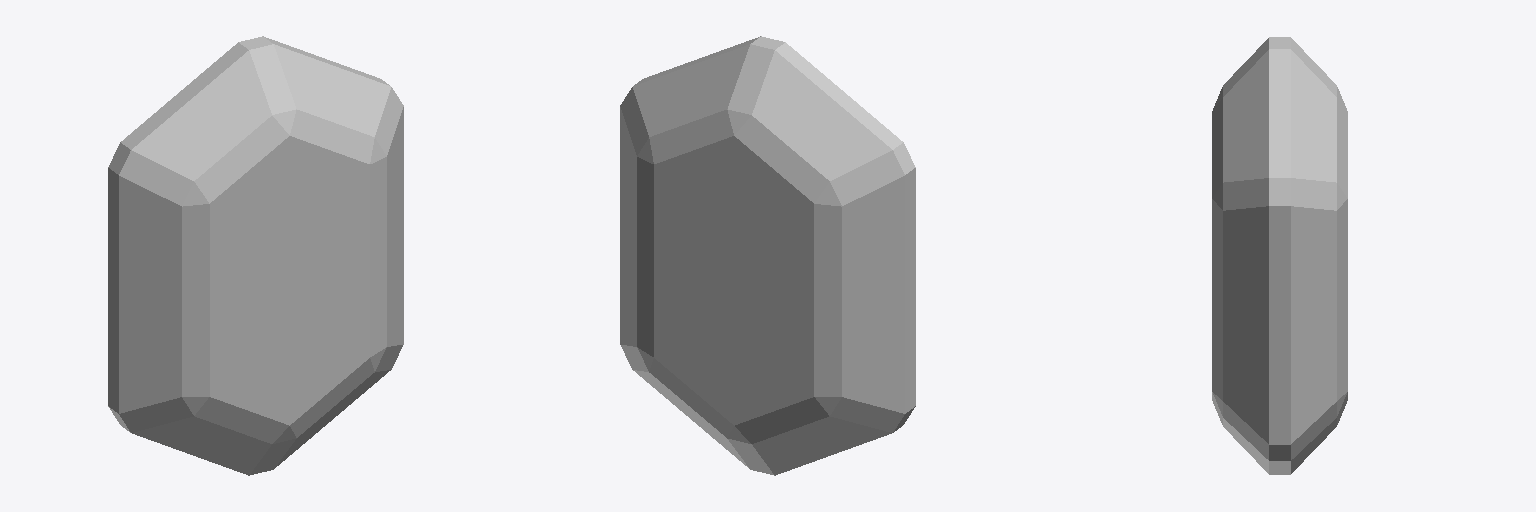
Rendered from Gem_Large.obj.
3 views of the same model, side by side, from view 1: azimuth 30°, elevation 25°; view 2: azimuth 150°, elevation 25°; view 3: azimuth 270°, elevation 25° (orthographic).
Parts seen in each view (by area): view 1: Gem_Large; view 2: Gem_Large; view 3: Gem_Large.
Boxes of the visible parts, box(x1,y1,x2,y2) form: Gem_Large: box(108, 36, 403, 475); Gem_Large: box(620, 36, 915, 475); Gem_Large: box(1212, 37, 1347, 474).
Size of the model in its own units: 0.5687 by 0.8117 by 0.234.